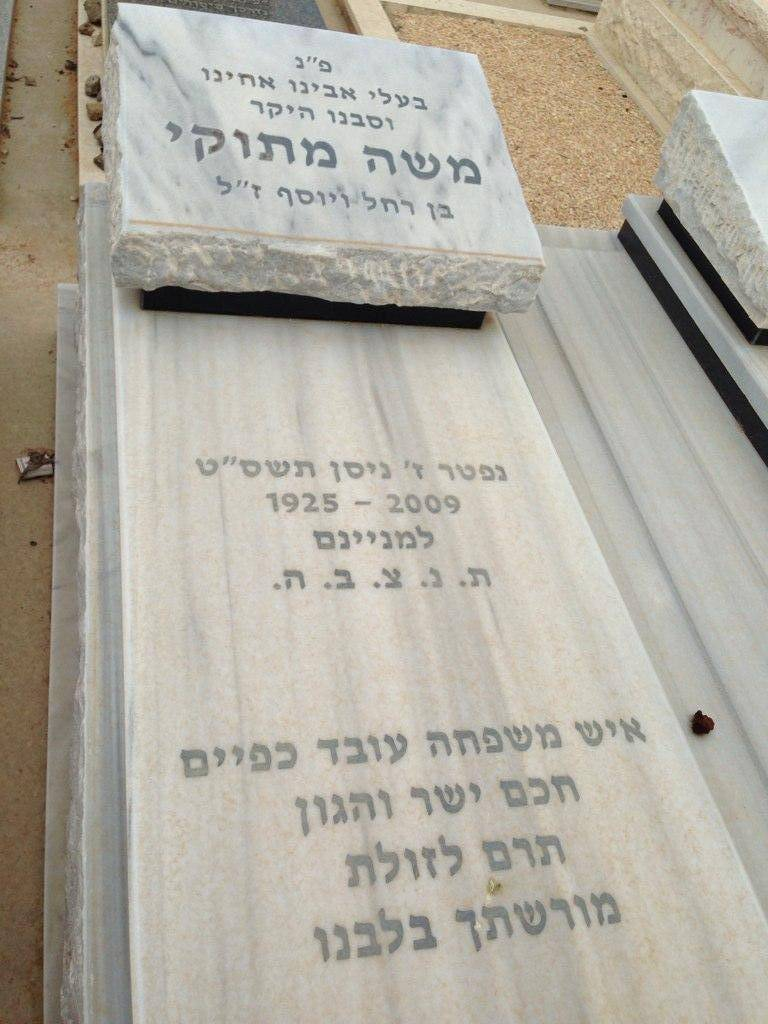vault: (95, 22, 762, 1017)
